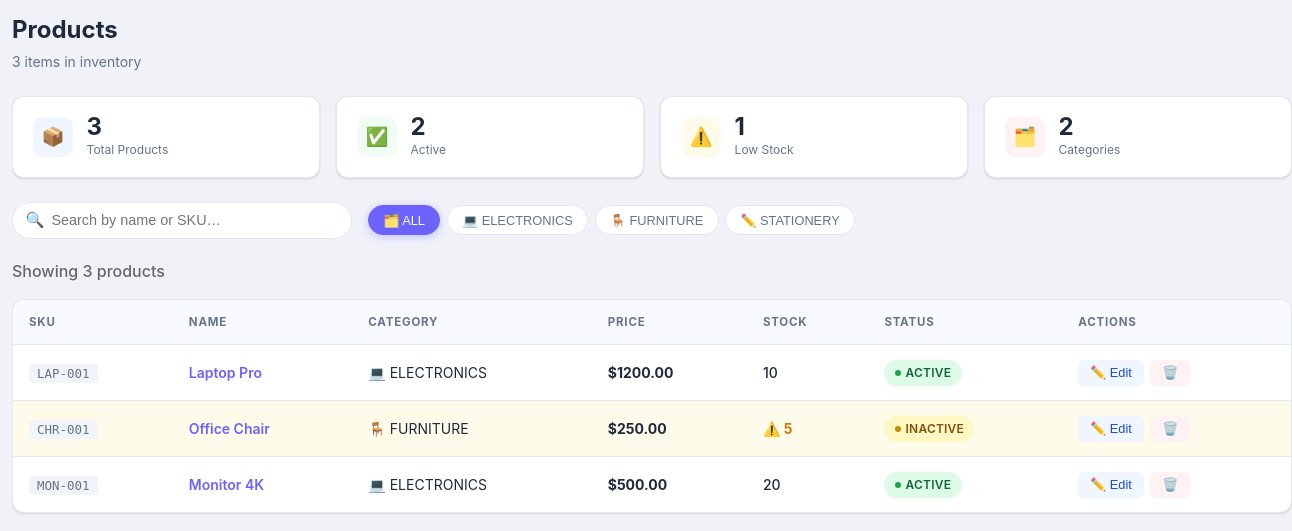
Scenario: ProductList › updates product count label to singular when search narrows down to 1 product
The image size is (1292, 531).
Expected: the text "Showing 3 products" is shown, [12, 261, 165, 281]
Type "Chair" into the field with placeholder "Search by name or SKU…" at (182, 220), box [12, 202, 352, 239]
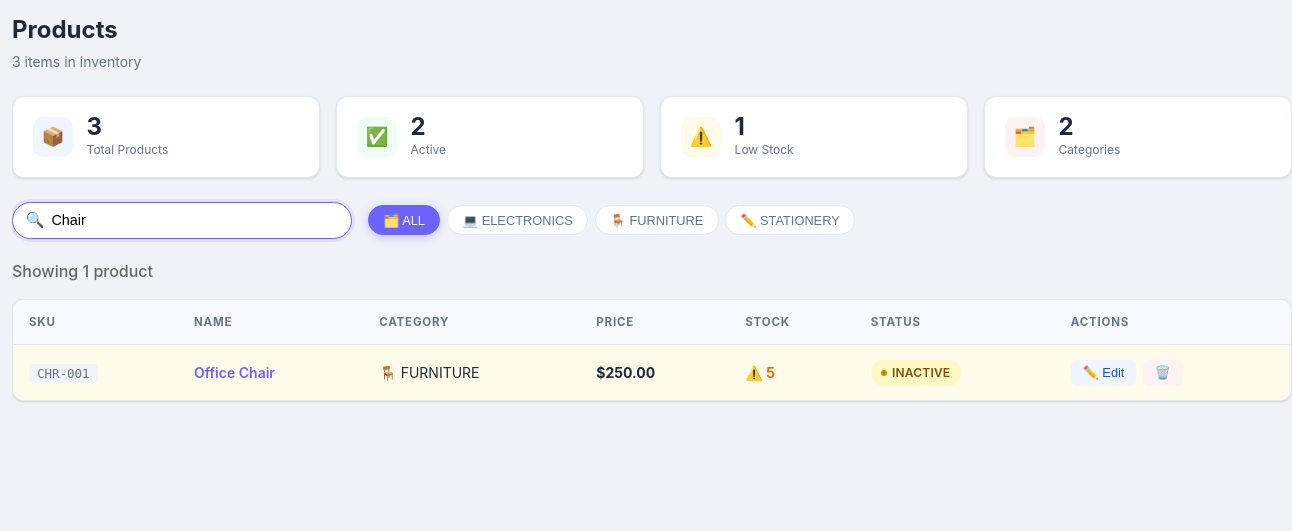
Expected: the link "Office Chair" is shown, [194, 364, 275, 381]
Expected: the text "Showing 1 product" is shown, [12, 261, 153, 281]
Expected: the link "Laptop Pro" is gone
